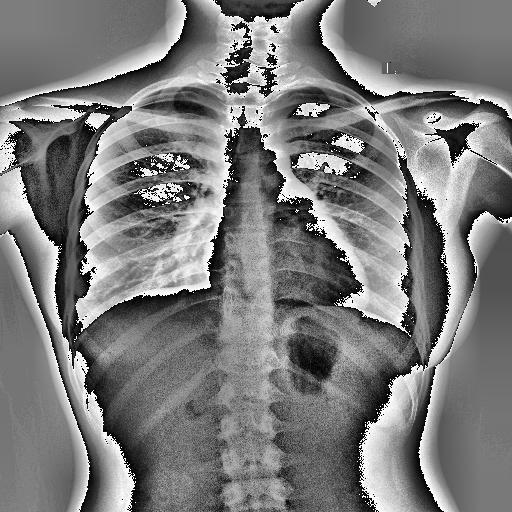7- Lung Opacity: (70, 256, 122, 300)
8- Nodule-Mass: (66, 250, 126, 300), (70, 256, 122, 300)
9- Other lesion: (60, 248, 130, 300)
